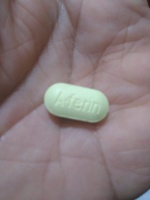Aferin: (42, 82, 111, 125)
